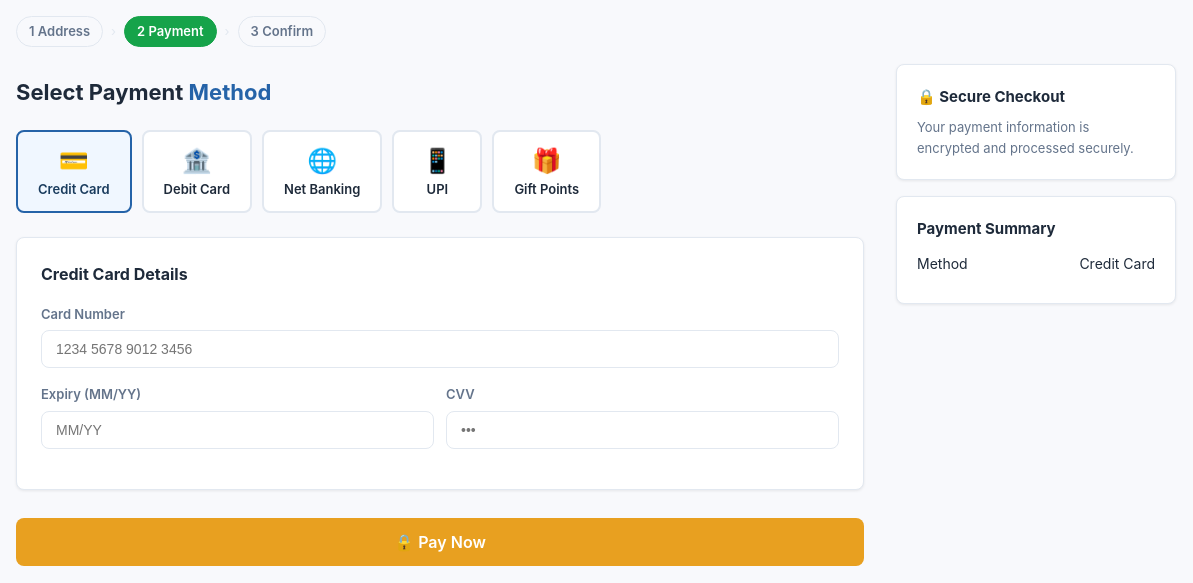
PaymentPage › auto-formats the card number into groups of four digits and strips letters
Type "4111a1111 11111111" into the field with placeholder "1234 5678 9012 3456" at x=440, y=349, box [41,330,839,368]
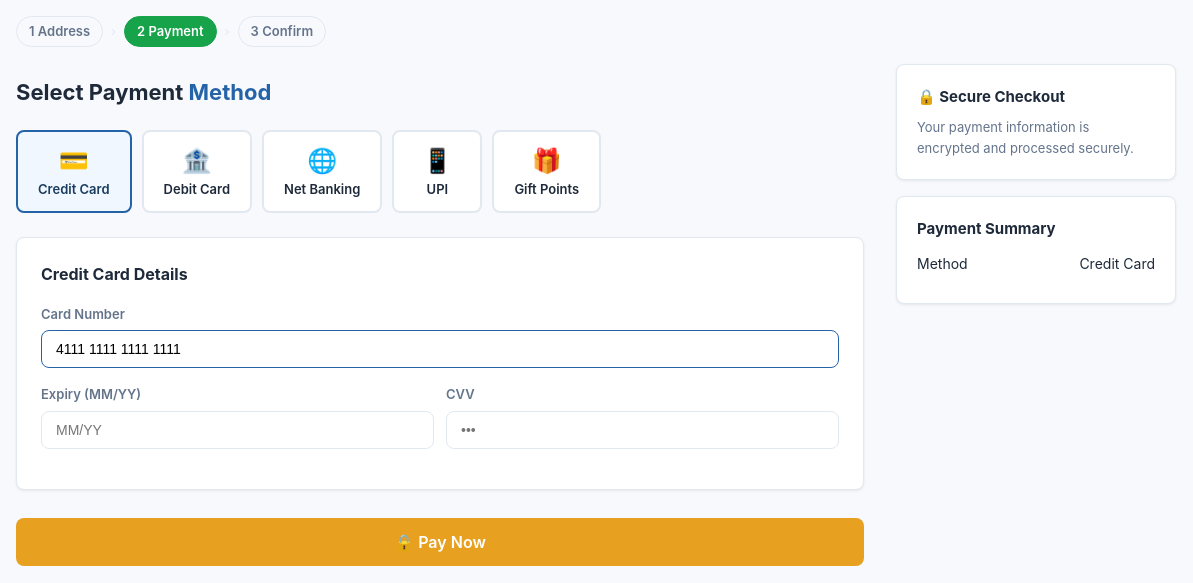
Check: the field with placeholder "1234 5678 9012 3456" holds "4111 1111 1111 1111", box [41,330,839,368]
